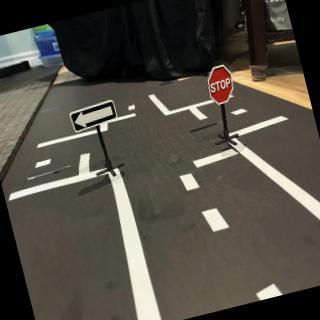sign_oneway_left: (69, 100, 120, 136)
sign_stop: (203, 63, 240, 109)
